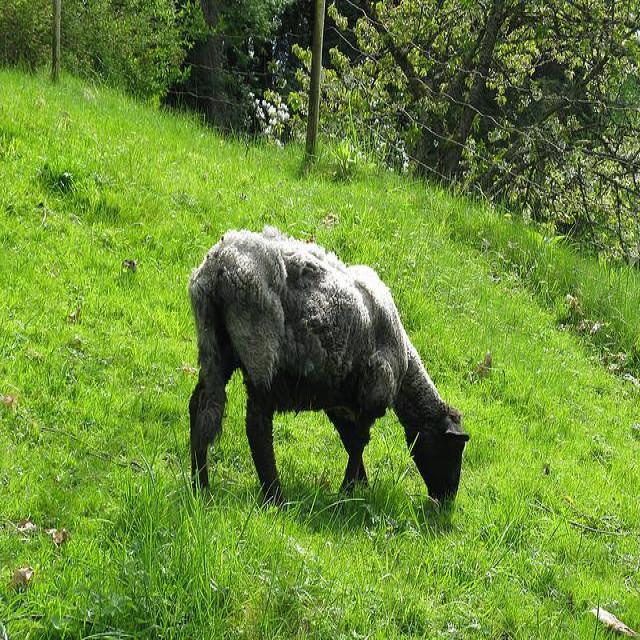Sheep: (177, 230, 471, 507)
